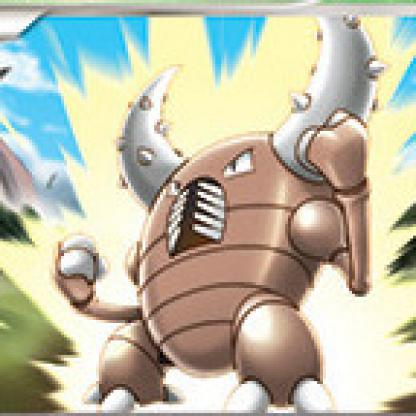Pinsir: (89, 16, 377, 414)
